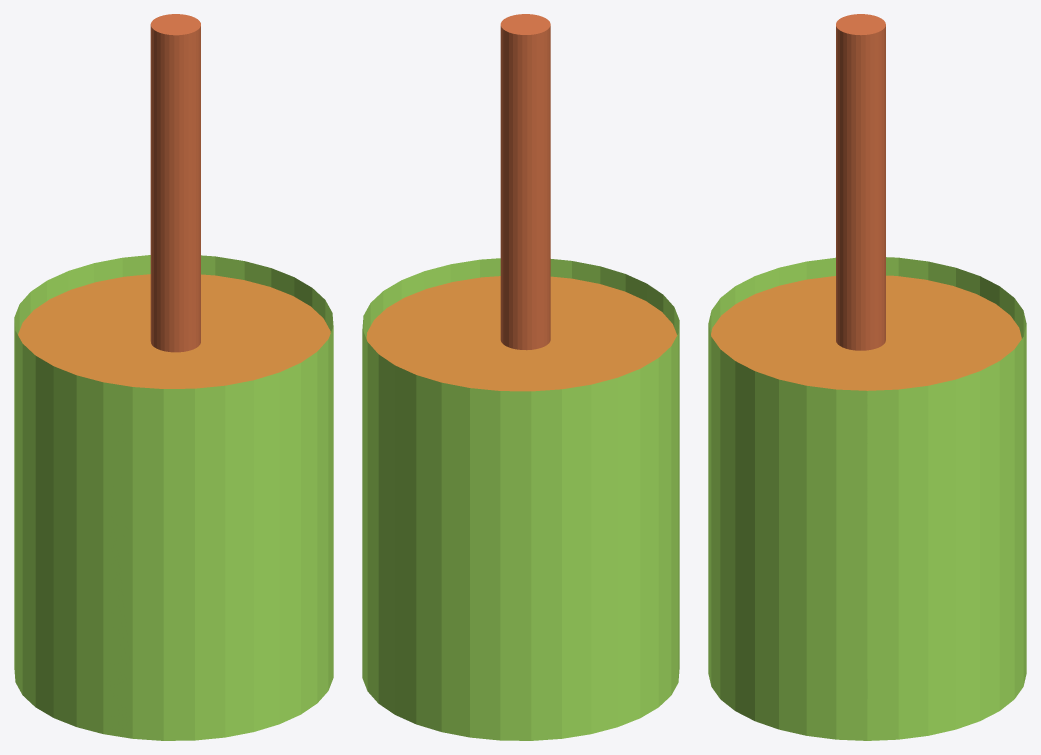
Rendered from flower pot.glb.
The picture shows the model from 3 angles, left to right: view 1: azimuth 30°, elevation 25°; view 2: azimuth 150°, elevation 25°; view 3: azimuth 270°, elevation 25°; orthographic projection.
Visible parts, largest first — view 1: Cylinder.001, Cylinder, Cylinder.002; view 2: Cylinder.001, Cylinder, Cylinder.002; view 3: Cylinder.001, Cylinder, Cylinder.002.
Boxes of the visible parts, x1,y1,x2,y2 form: Cylinder.001: (14,255,333,740); Cylinder: (18,274,330,388); Cylinder.002: (150,14,200,352); Cylinder.001: (362,258,679,740); Cylinder: (366,276,677,391); Cylinder.002: (500,14,550,350); Cylinder.001: (708,257,1026,740); Cylinder: (711,275,1021,390); Cylinder.002: (836,14,885,350).
Size of the model in its own units: 2.54 by 6 by 2.54.
